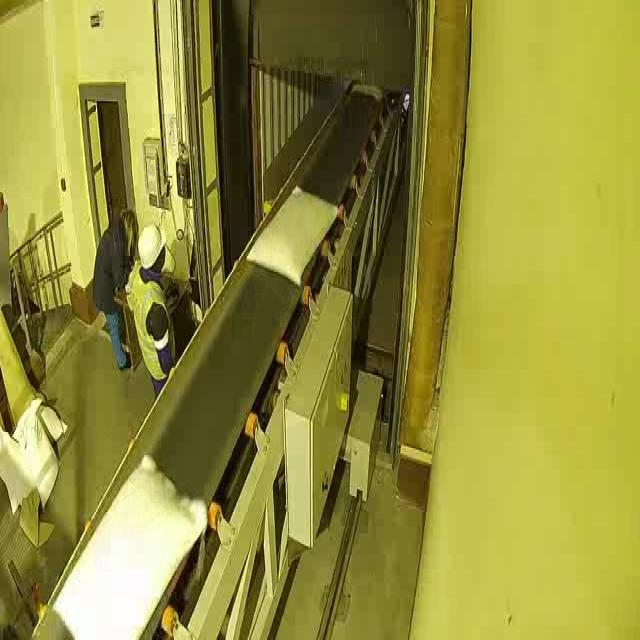bag: (46, 450, 208, 634), (245, 180, 340, 288), (352, 82, 386, 97)
